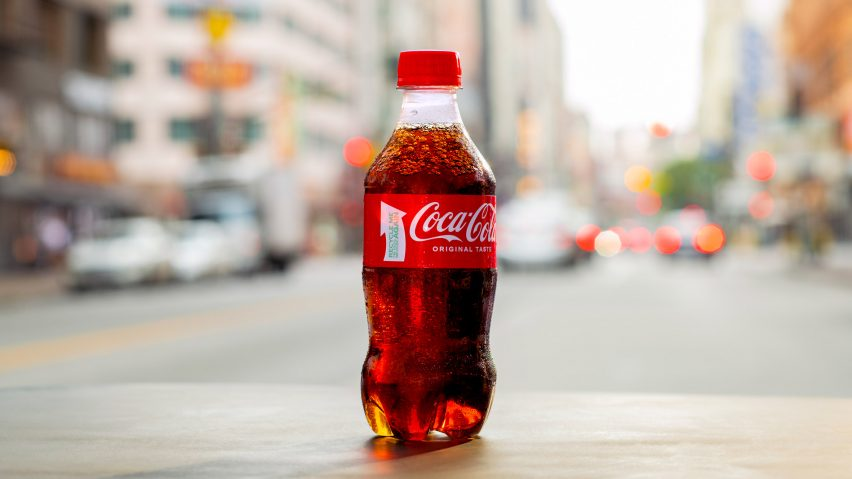plastic_bottle: (315, 22, 566, 479)
